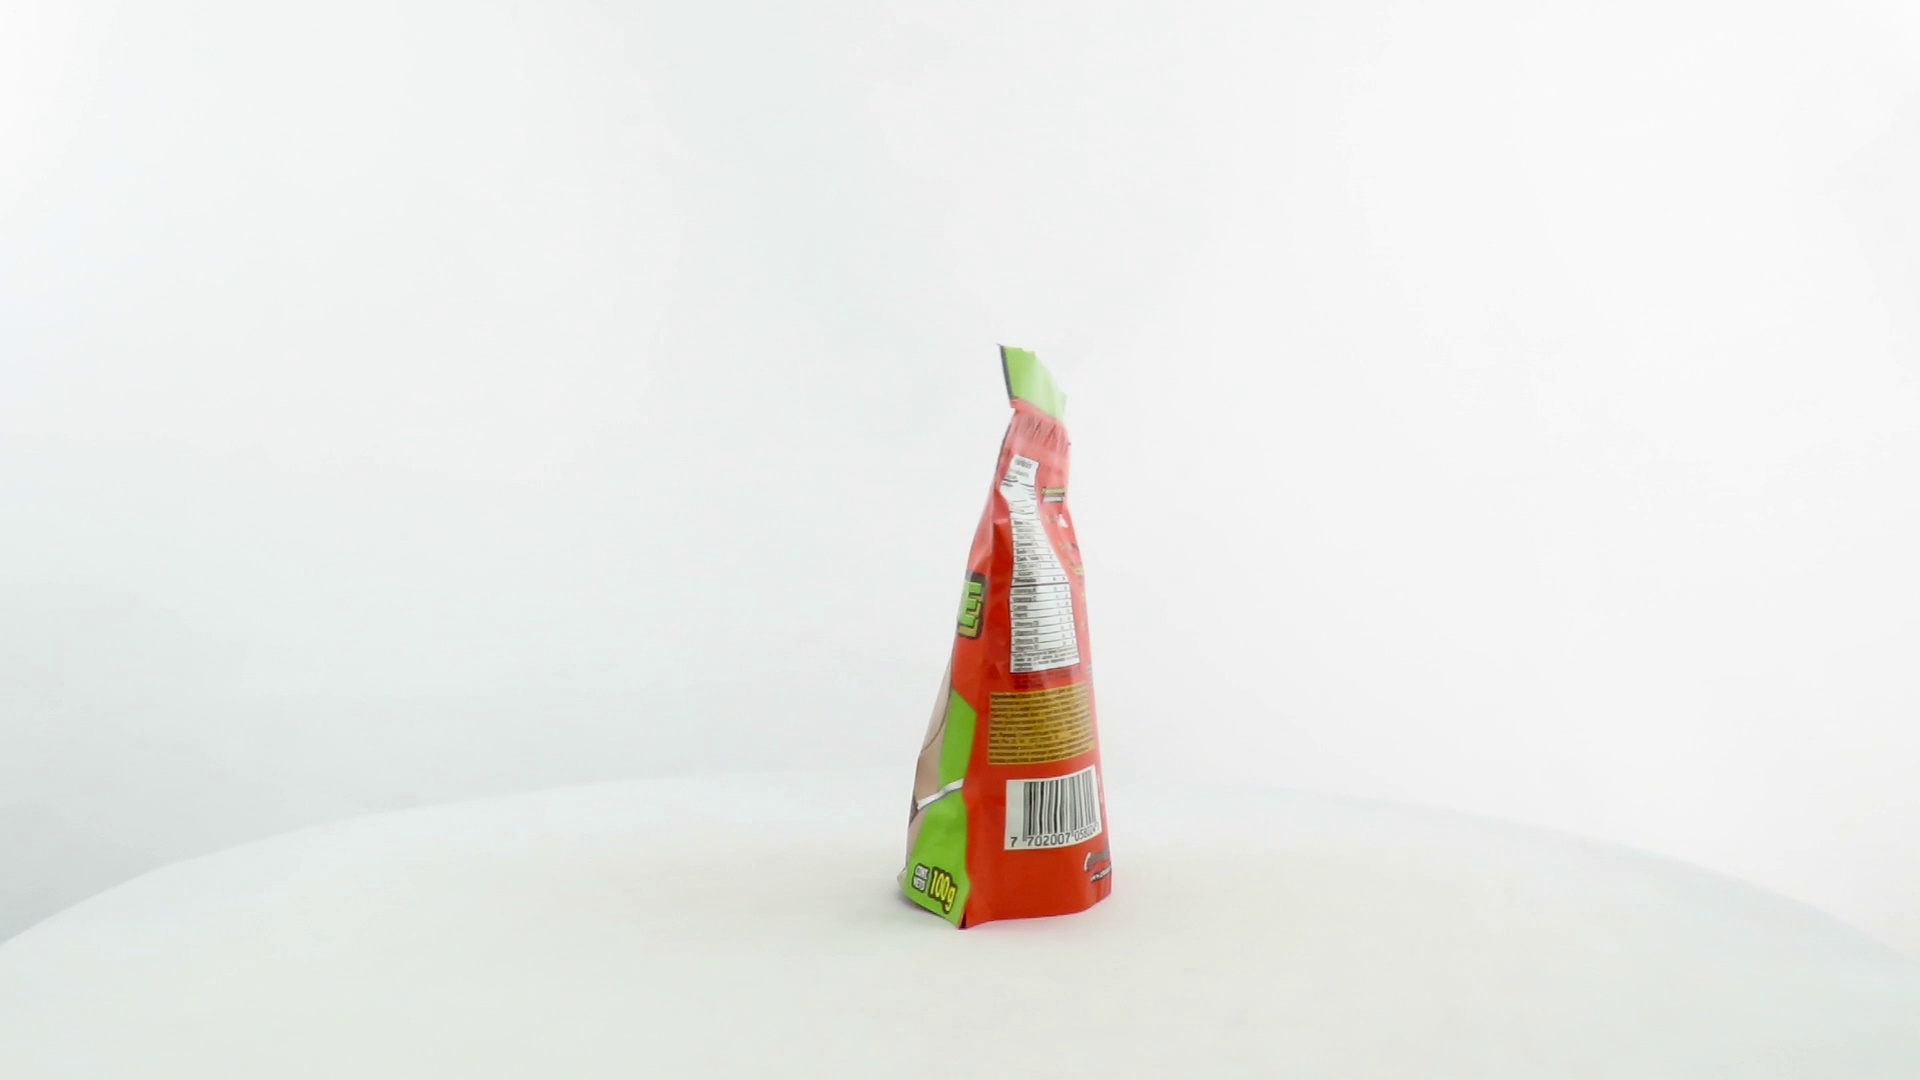COL0170102DYP10000: (889, 338, 1118, 936)
